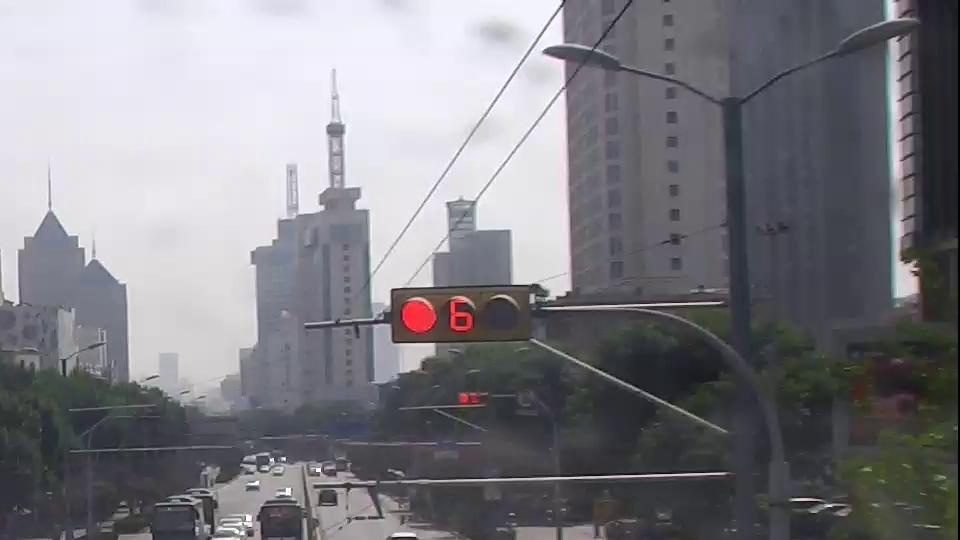red: (398, 297, 440, 336), (458, 391, 470, 407)
redtime: (446, 296, 480, 336), (470, 393, 482, 406)
